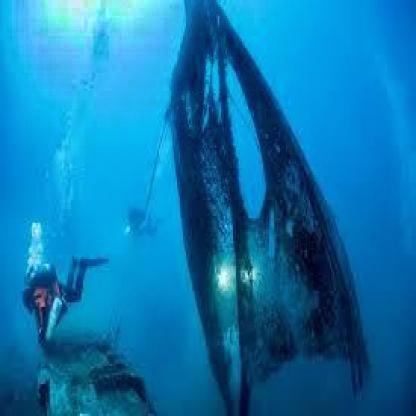net: (171, 2, 363, 416)
